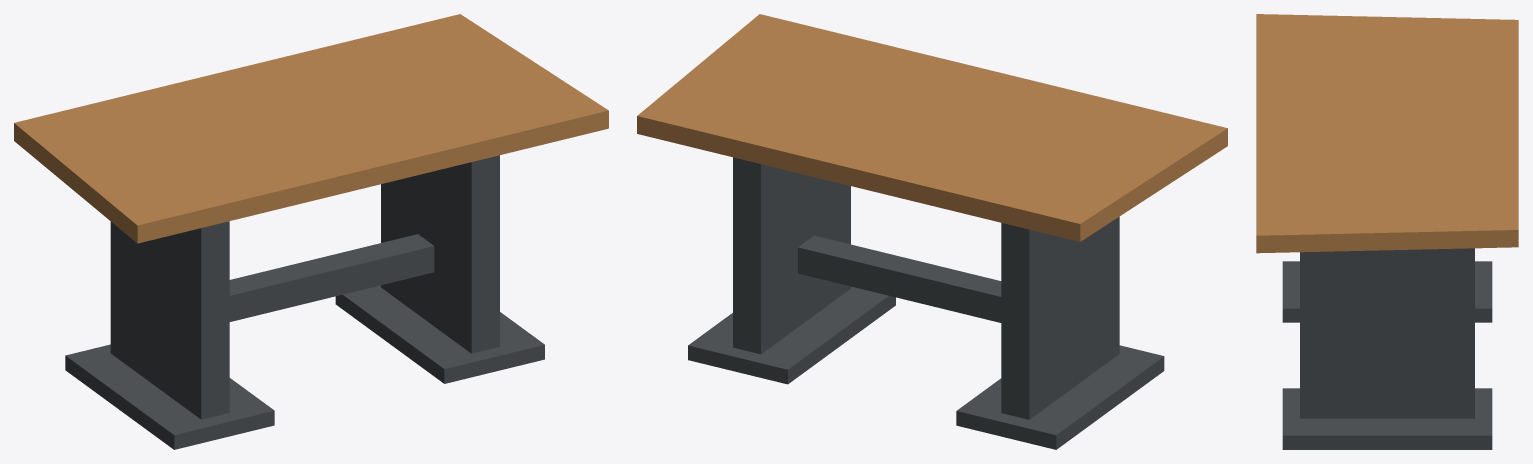
The model's file is diagnostic_scene.glb.
3 renders of one model, left to right at view 1: azimuth 30°, elevation 25°; view 2: azimuth 150°, elevation 25°; view 3: azimuth 270°, elevation 25°, orthographic. The views are drawn at different scales.
Visible parts, largest first — view 1: tabletop/tabletop_mesh, left_pedestal_lower_brace/left_pedestal_lower_brace_mesh, right_pedestal/right_pedestal_mesh; view 2: tabletop/tabletop_mesh, left_pedestal_lower_brace/left_pedestal_lower_brace_mesh, right_pedestal/right_pedestal_mesh; view 3: tabletop/tabletop_mesh, right_pedestal/right_pedestal_mesh, left_pedestal_lower_brace/left_pedestal_lower_brace_mesh.
Part boxes in pixels (<box>): tabletop/tabletop_mesh: <box>14,14,608,243</box>; left_pedestal_lower_brace/left_pedestal_lower_brace_mesh: <box>65,221,434,449</box>; right_pedestal/right_pedestal_mesh: <box>335,155,544,383</box>; tabletop/tabletop_mesh: <box>637,14,1227,241</box>; left_pedestal_lower_brace/left_pedestal_lower_brace_mesh: <box>798,216,1164,449</box>; right_pedestal/right_pedestal_mesh: <box>688,157,895,384</box>; tabletop/tabletop_mesh: <box>1256,14,1518,253</box>; right_pedestal/right_pedestal_mesh: <box>1282,248,1492,449</box>; left_pedestal_lower_brace/left_pedestal_lower_brace_mesh: <box>1282,261,1492,322</box>.
Size of the model in its own units: 1500 by 750 by 750.
